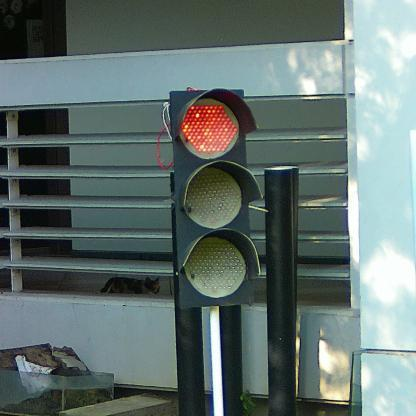red: (169, 89, 259, 307)
